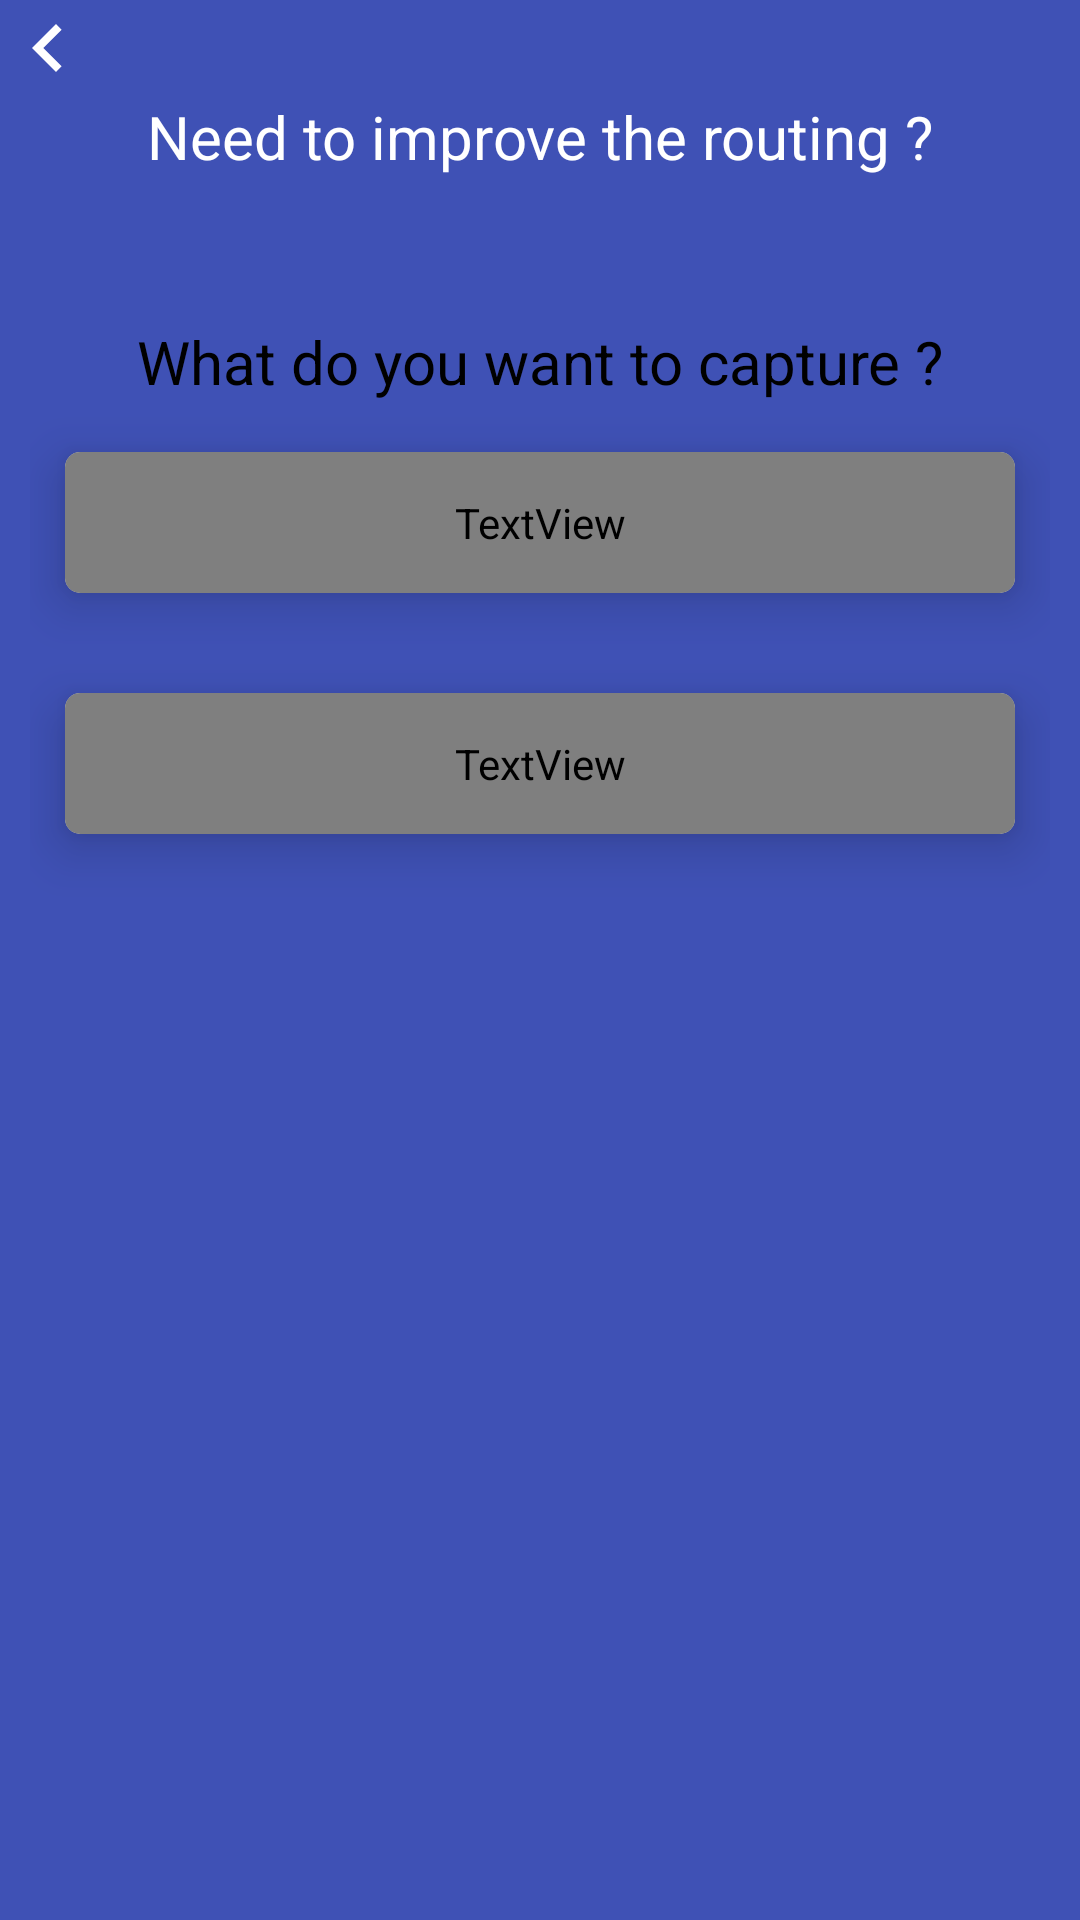

Icon bounding boxes for this 1080px x 1920px phone screenshot, format (left=x1, top=y1, right=x2, bottom=y2):
navigate back: (left=32, top=24, right=62, bottom=72)
